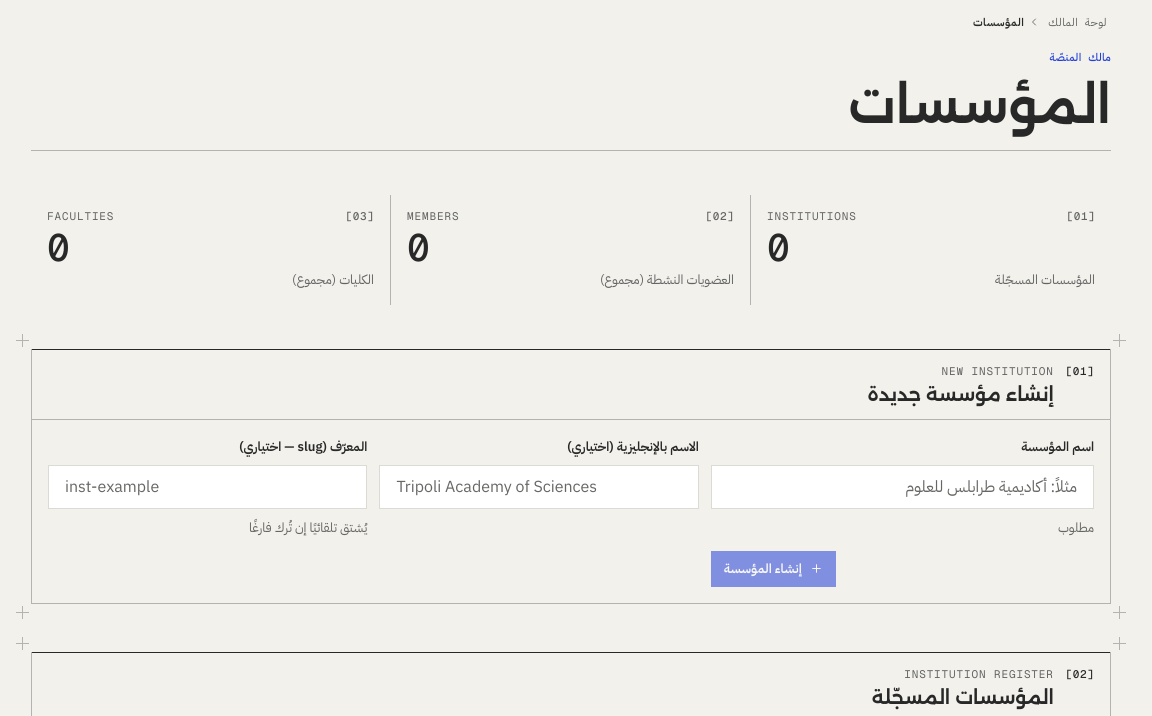
Test case: OwnerInstitutionsPage — create form (r178) › gates the submit on a name of at least two characters
Expected: the button "إنشاء المؤسسة" is disabled, [711,551,836,587]
Type "م" into the field labelled "اسم المؤسسة" at (902, 487), box [711,465,1094,509]
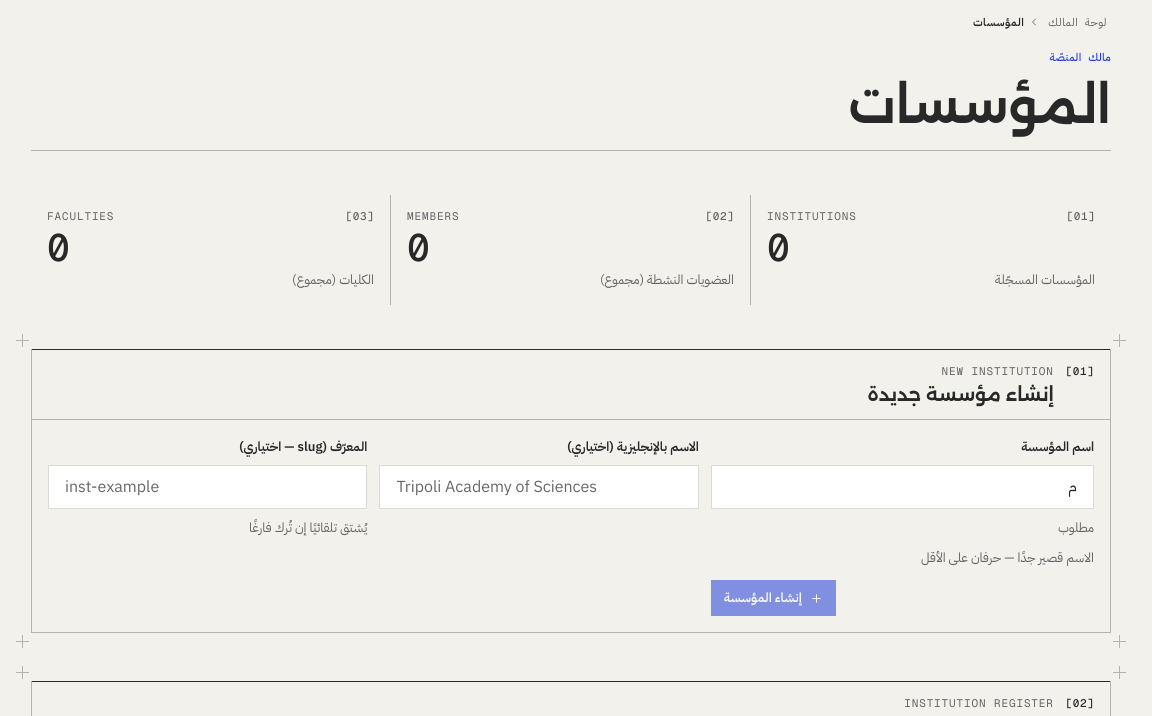
Expected: the button "إنشاء المؤسسة" is disabled, [711,580,836,616]
Replace the text in the field labelled "اسم المؤسسة" with "أكاديمية طرابلس" at (902, 487), box [711,465,1094,509]
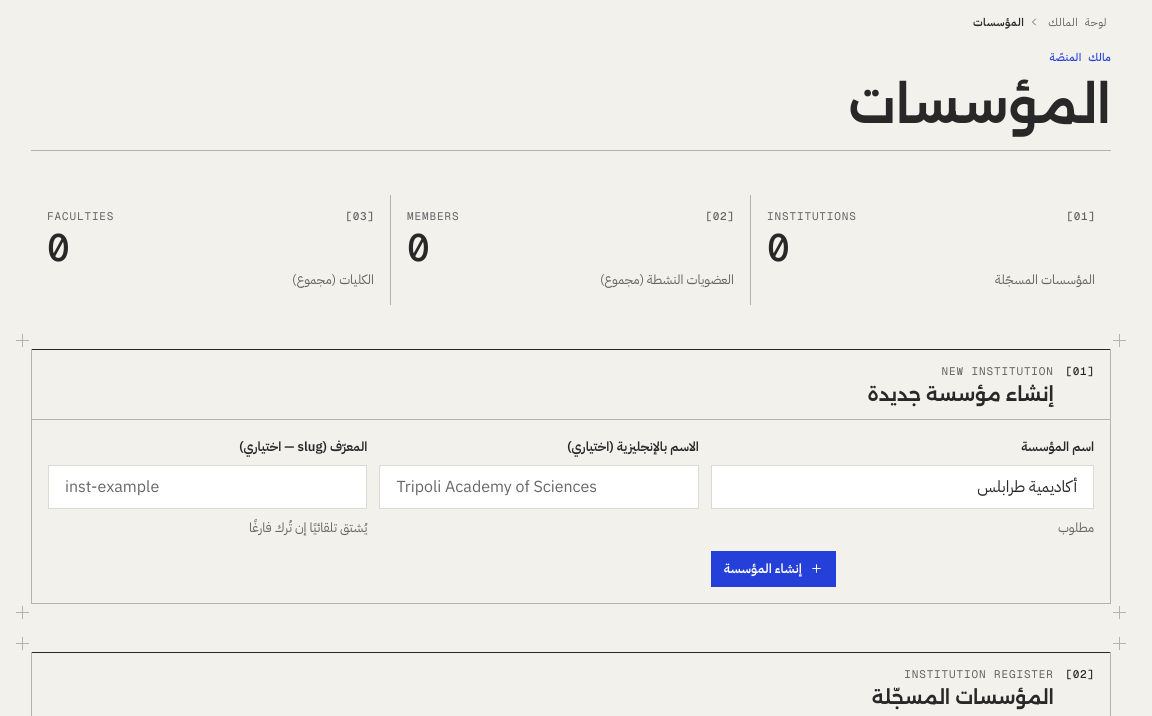
Result: the button "إنشاء المؤسسة" is enabled at [711,551,836,587]
